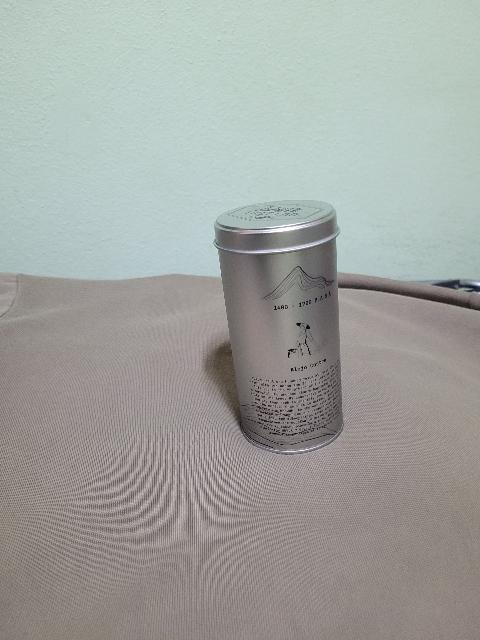Metal: (208, 183, 360, 456), (214, 191, 346, 261)
